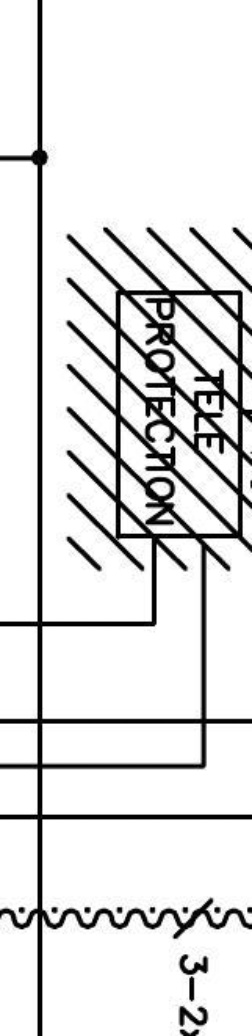tele_protection: (110, 286, 246, 542)
